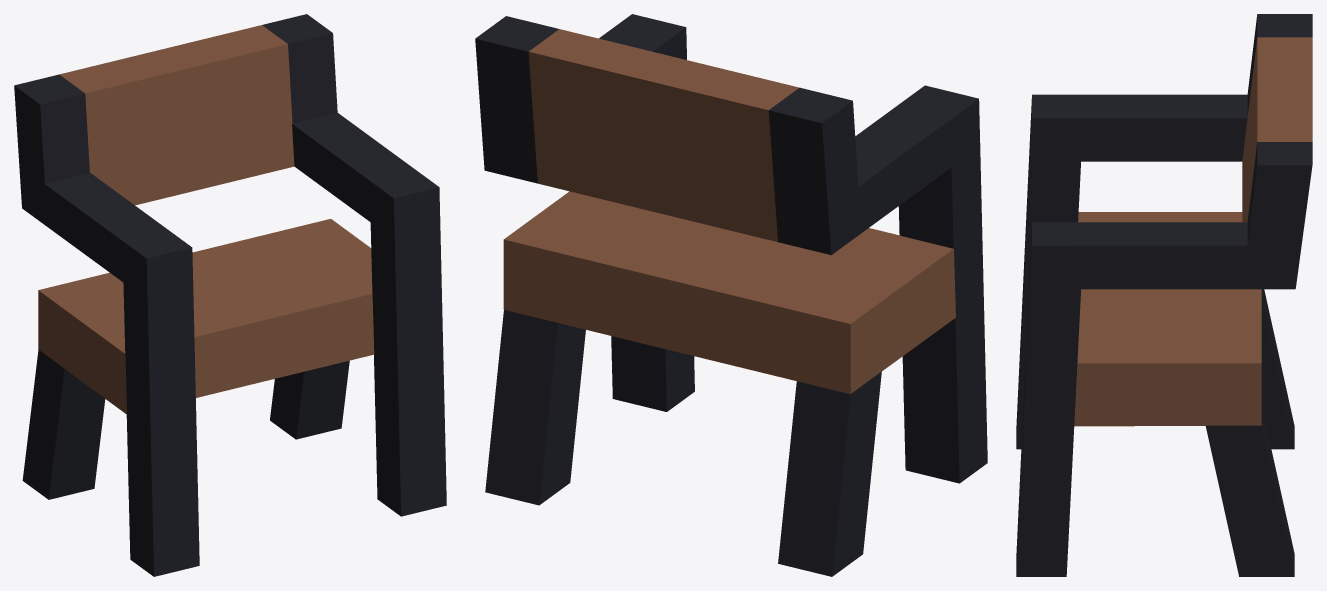
File: chair_09.fbx
The picture shows the model from 3 angles, left to right: view 1: azimuth 30°, elevation 25°; view 2: azimuth 150°, elevation 25°; view 3: azimuth 270°, elevation 25°; orthographic projection. The views are drawn at different scales.
Parts seen in each view (by area): view 1: chair_09; view 2: chair_09; view 3: chair_09.
Boxes of the visible parts, left/top/right/bottom form: chair_09: left=14, top=14, right=446, bottom=576; chair_09: left=475, top=14, right=987, bottom=576; chair_09: left=1016, top=14, right=1312, bottom=576.
Bounding box in the file's own units: 58.34 × 74.08 × 48.27.
